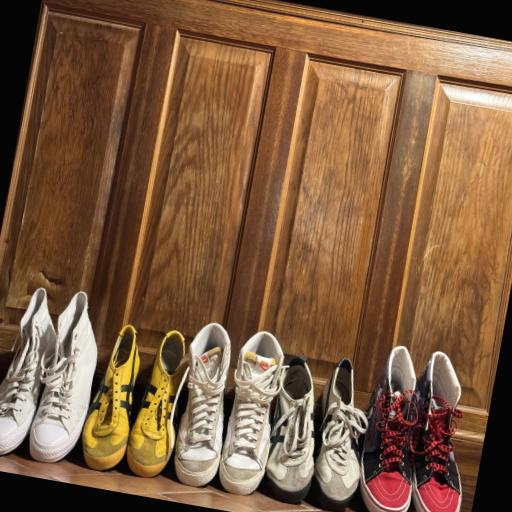shoe: (29, 292, 96, 462), (218, 332, 282, 495), (358, 346, 416, 511), (0, 288, 55, 455), (174, 323, 229, 486), (311, 358, 366, 511), (126, 331, 183, 477), (82, 325, 138, 470), (410, 352, 461, 511), (265, 356, 314, 503)
